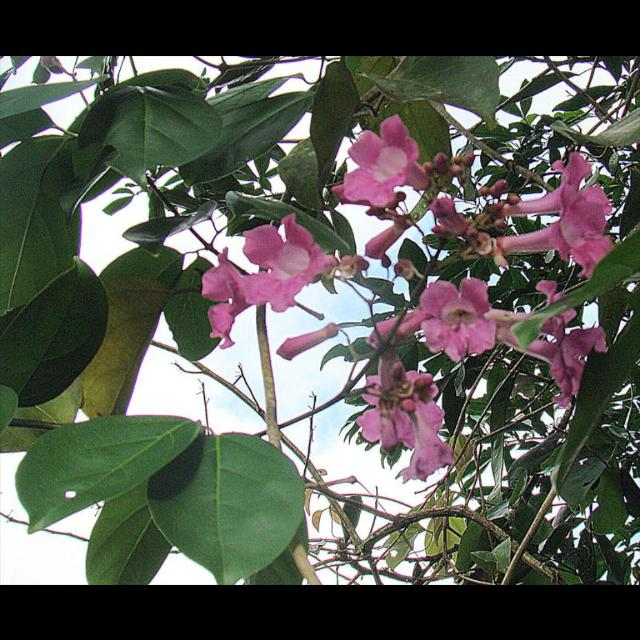Flower: (234, 215, 358, 327), (351, 360, 455, 488), (494, 183, 610, 285), (336, 114, 439, 218), (408, 266, 507, 368), (514, 323, 618, 409), (482, 282, 572, 366), (505, 148, 613, 214), (202, 244, 244, 364)
